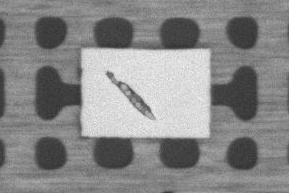DIE_INK: (105, 70, 154, 120)
